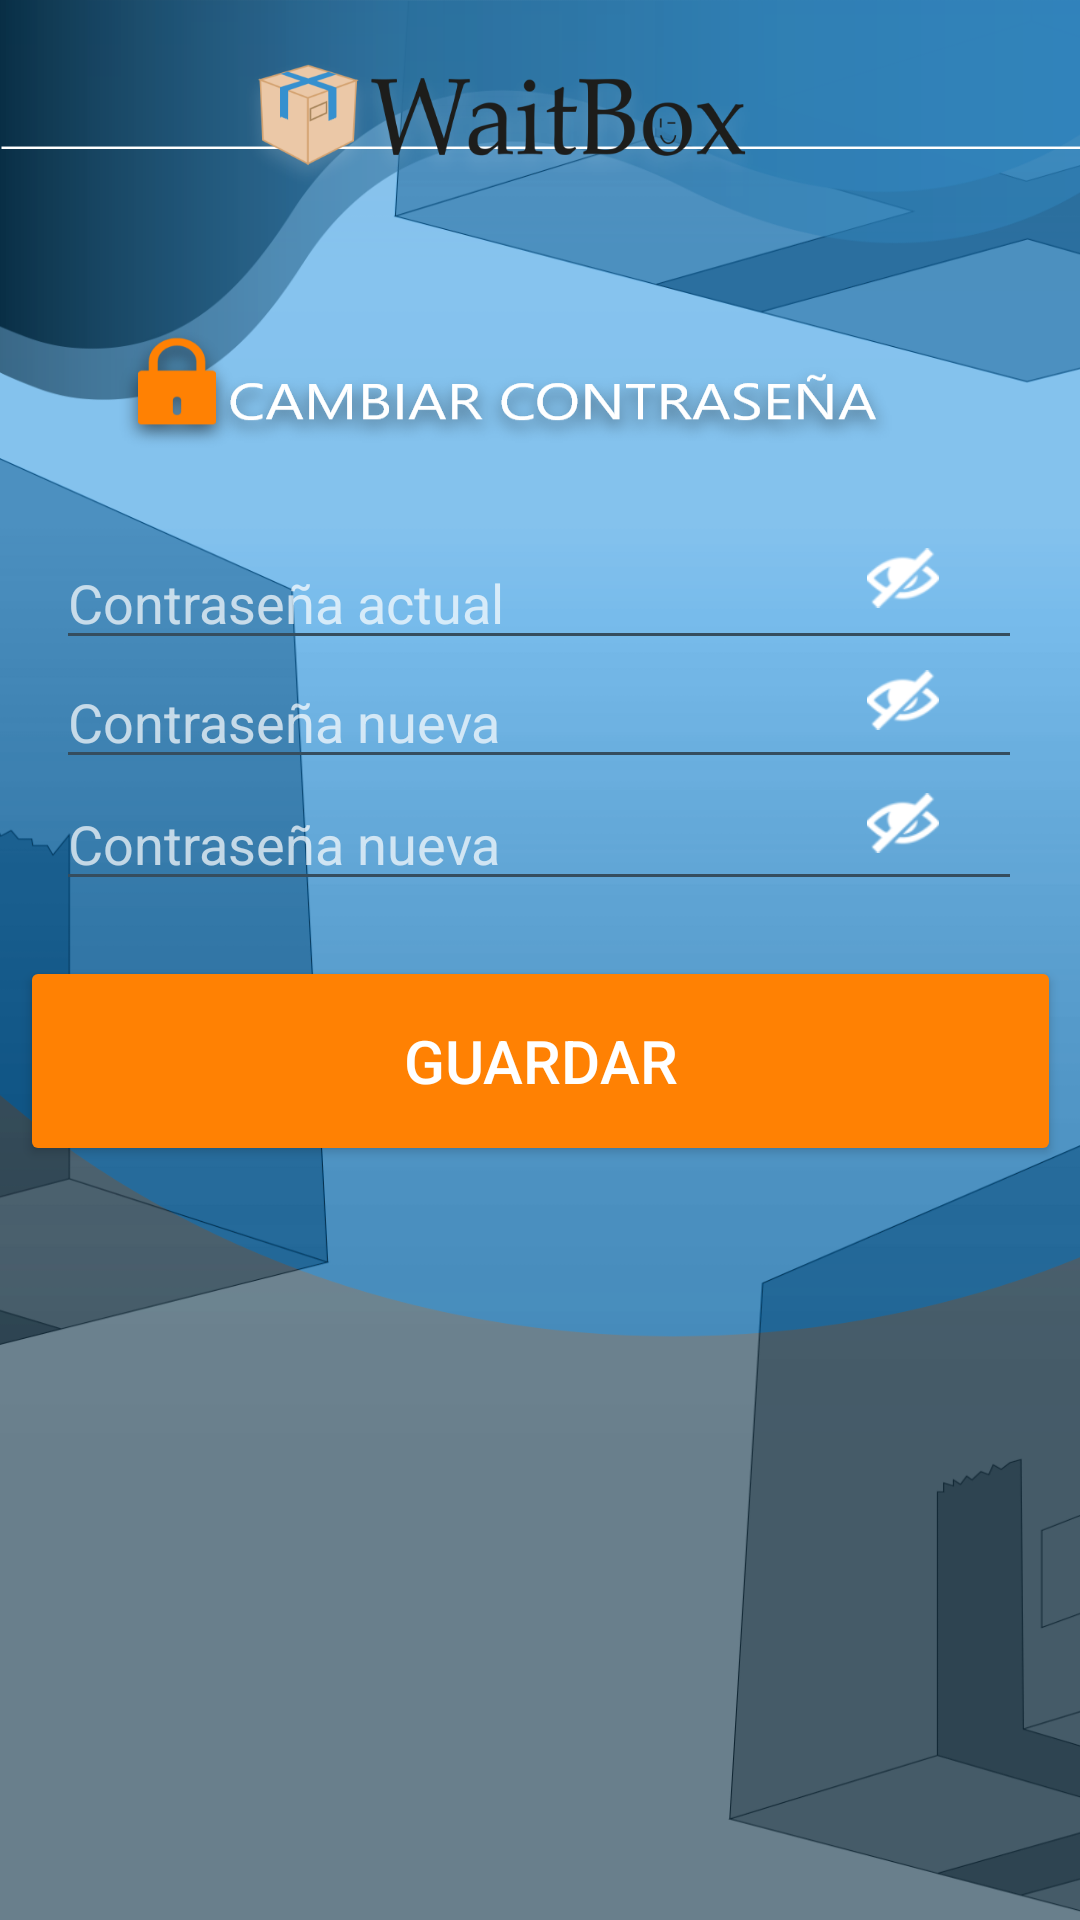

Named icons in this screenshot (1080*1920) and their bounding boxes, box(x1, y1, x2, y2):
invisible: box(867, 548, 939, 608), box(867, 670, 939, 730), box(867, 793, 939, 853)
